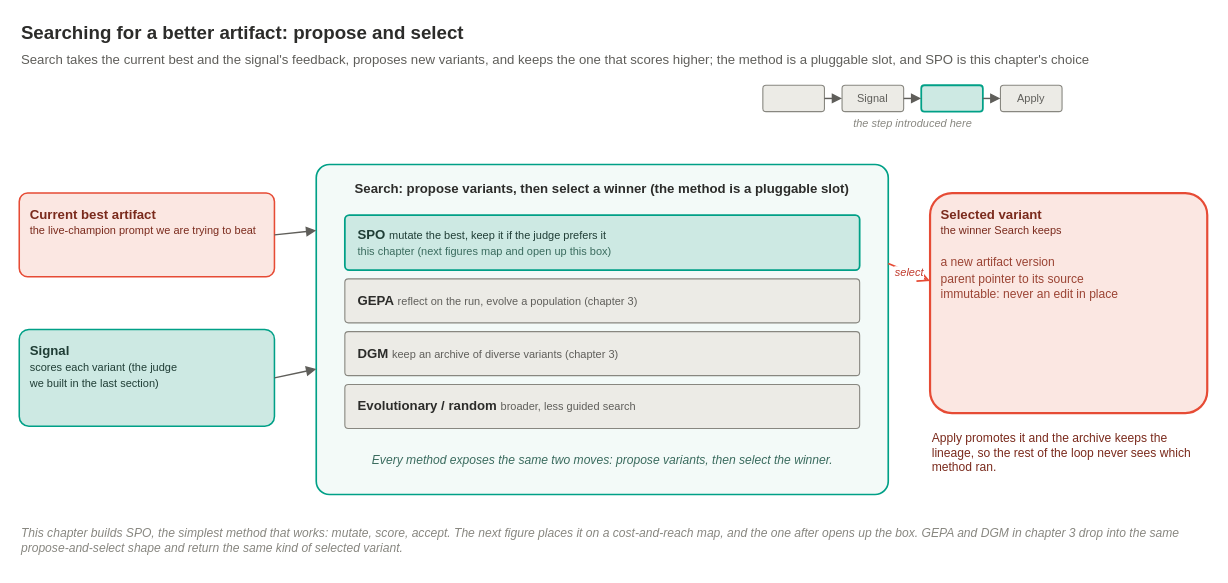
Some shapes in this 1228 by 583 pixel diagram are drawn without their labels. The shapes that lost their labels are listed below. From the top down, each one's centre as x and y in pixels, then its label:
At (x=793, y=98): "Act".
At (x=951, y=98): "Search".
